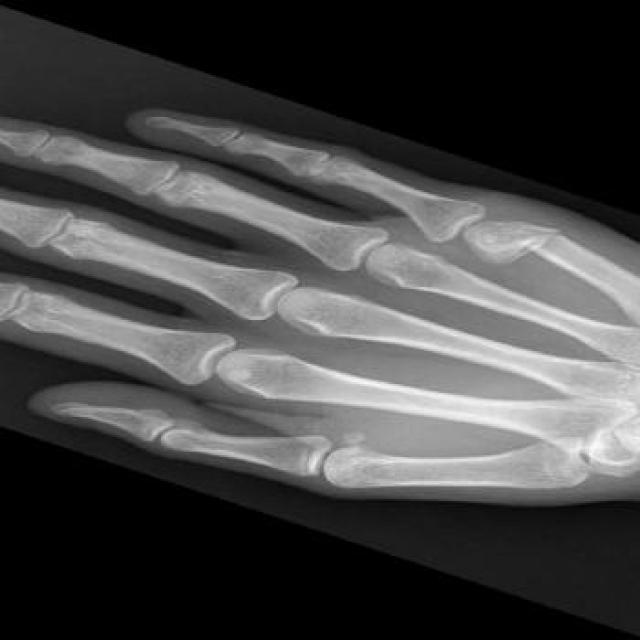Fracture: (485, 222, 544, 275)
